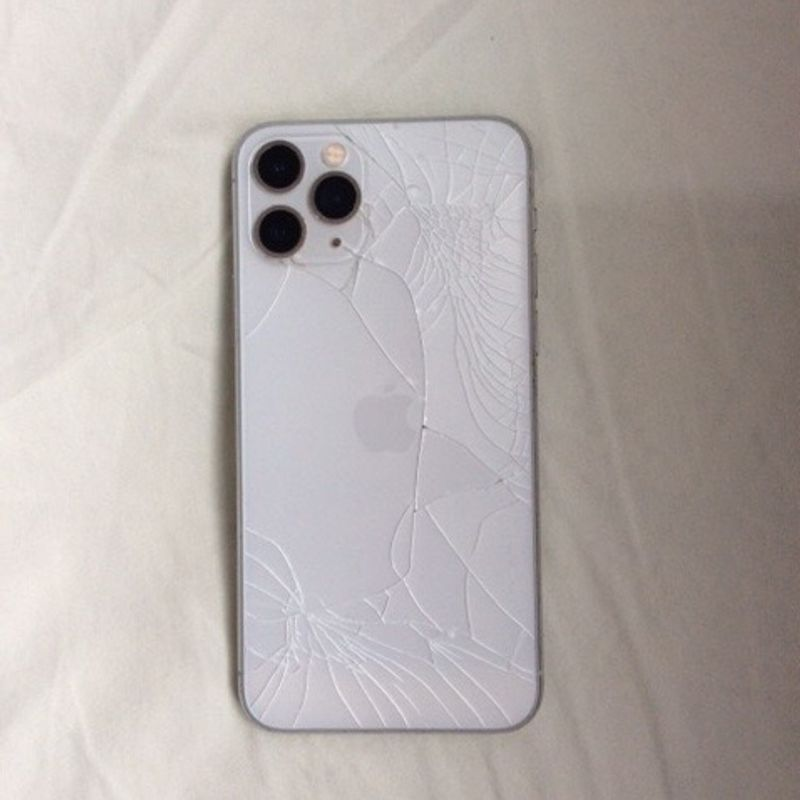crack_phone: (213, 110, 564, 763)
